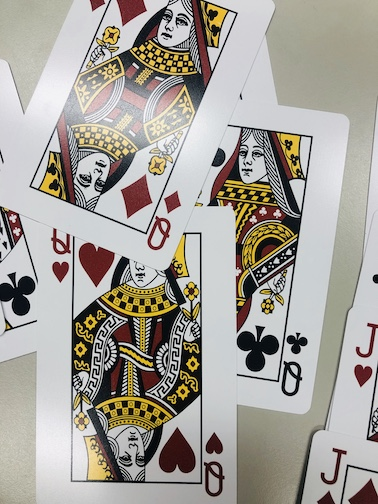jack: (328, 304, 378, 425), (302, 429, 378, 502)
queen: (1, 1, 285, 273), (39, 226, 236, 504), (222, 96, 334, 416)
